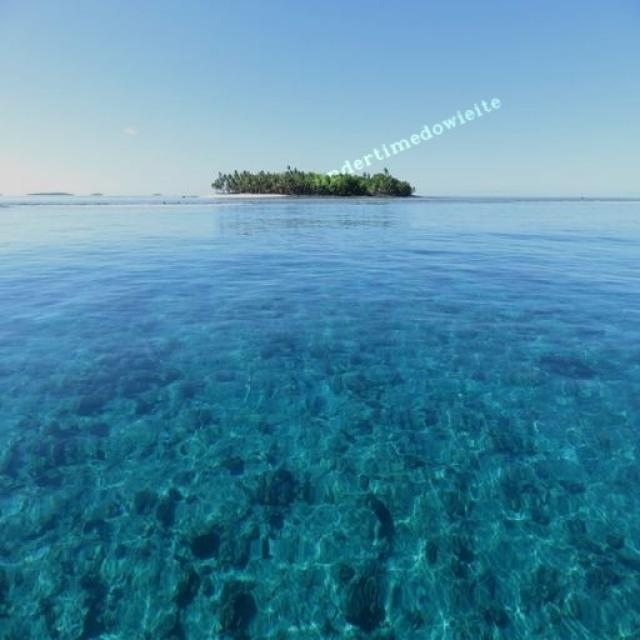watermark: (310, 90, 502, 190)
